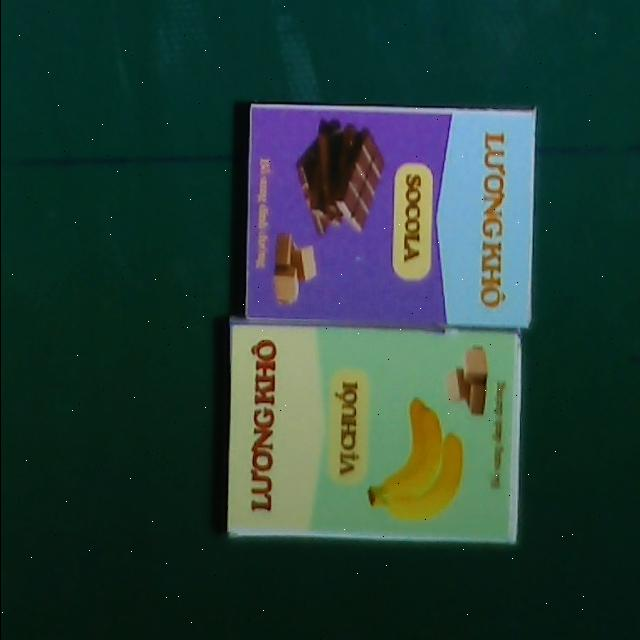chuoi: (223, 320, 525, 545)
socola: (245, 102, 533, 331)
